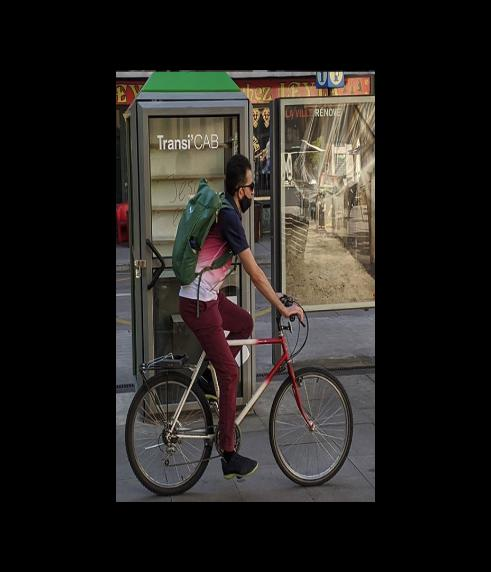mask_weared_incorrect: (238, 172, 260, 212)
